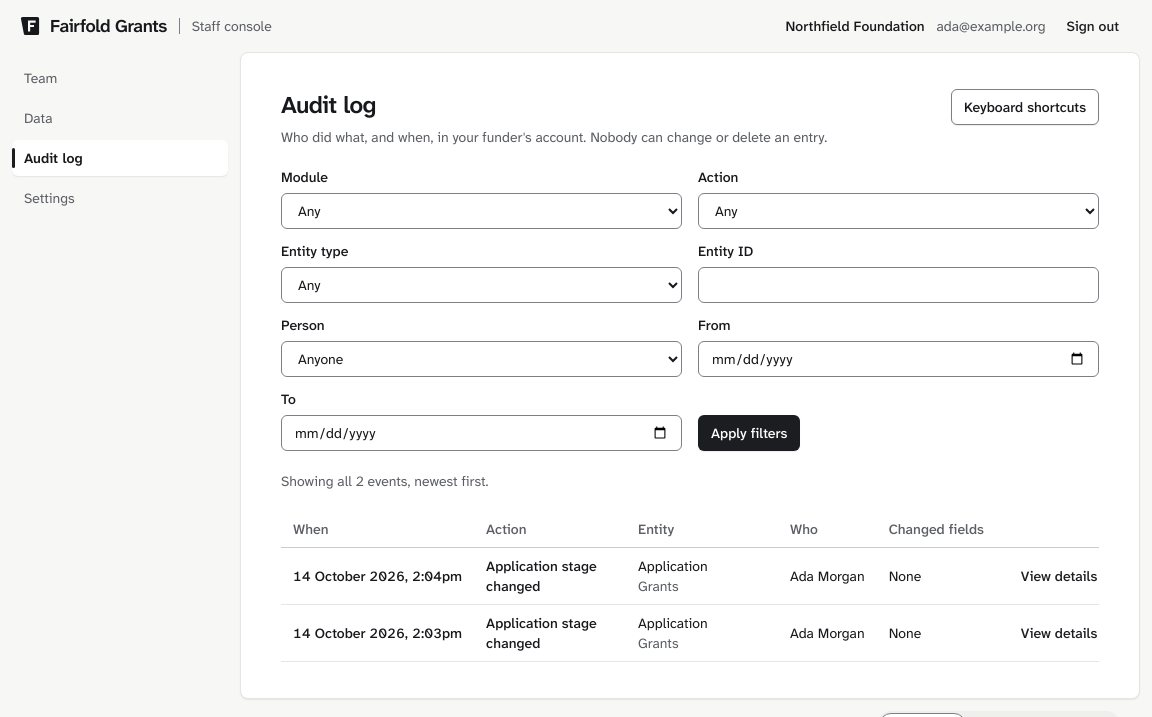
the audit log › says what is wrong with a filter next to it, and applies nothing
The width and height of the screenshot is (1152, 717).
Expected: the table is shown, [281, 511, 1099, 662]
Type "abc" into the field labelled "Entity ID" at (898, 285), box [698, 267, 1099, 303]
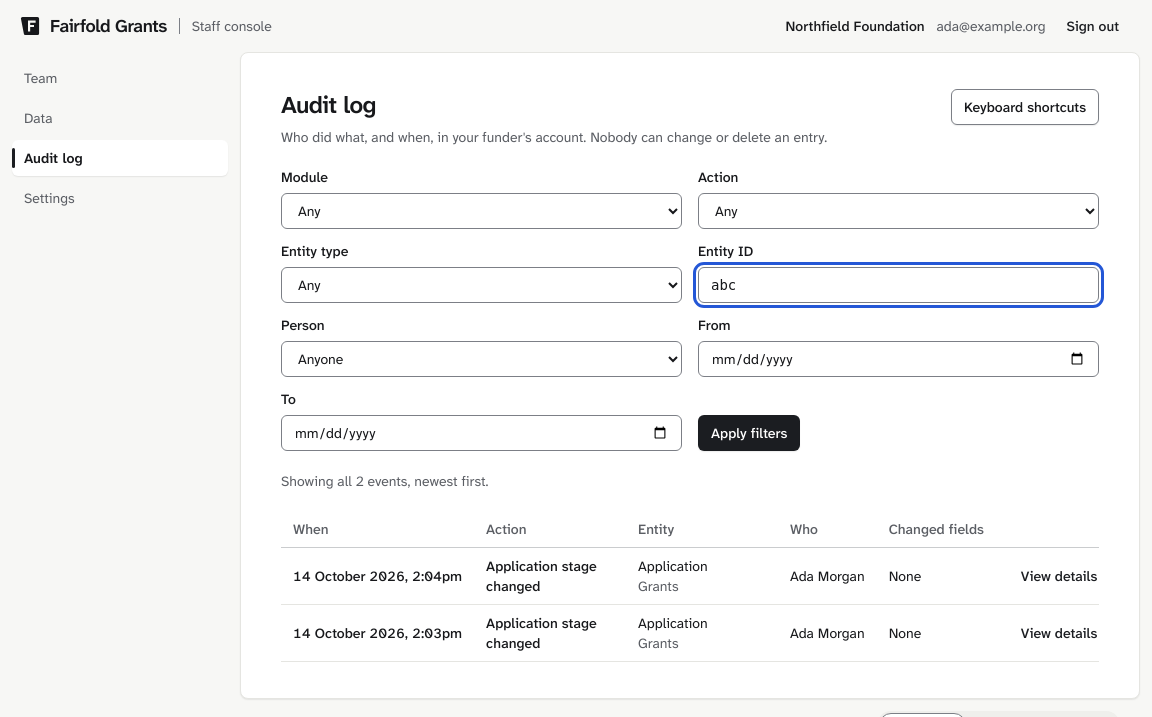
Click the button "Apply filters" at (749, 433), box [698, 415, 800, 451]
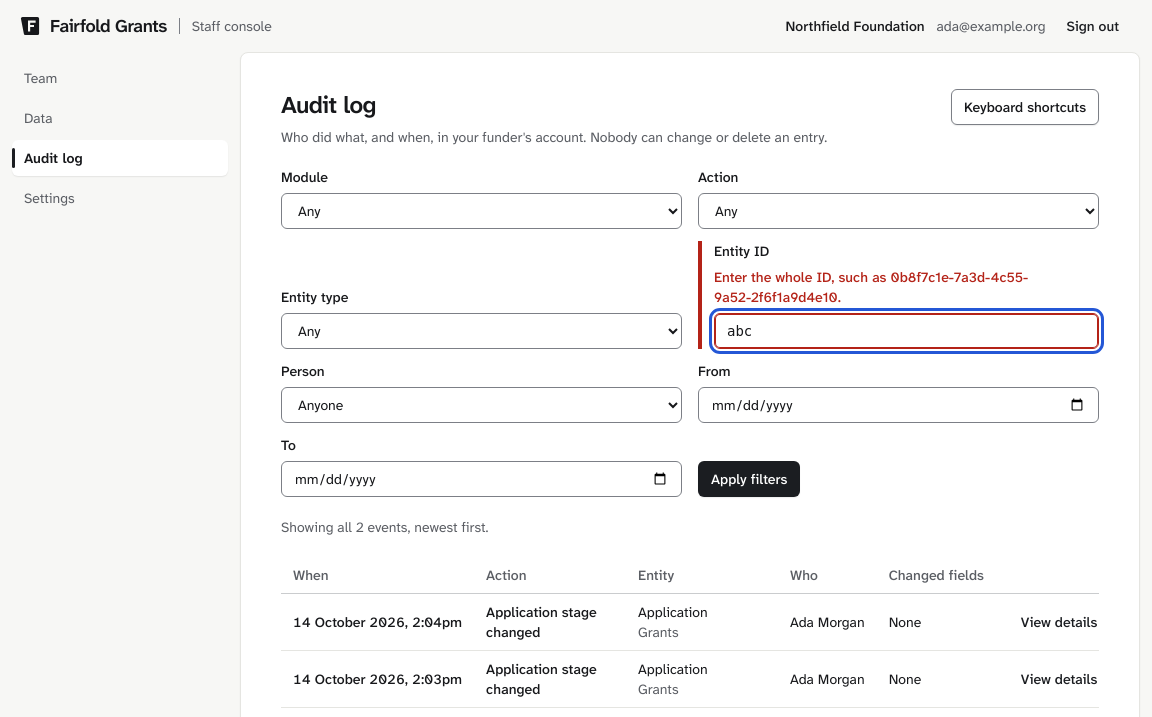
Expected: the text "Enter the whole ID" is shown, [714, 268, 1028, 306]
